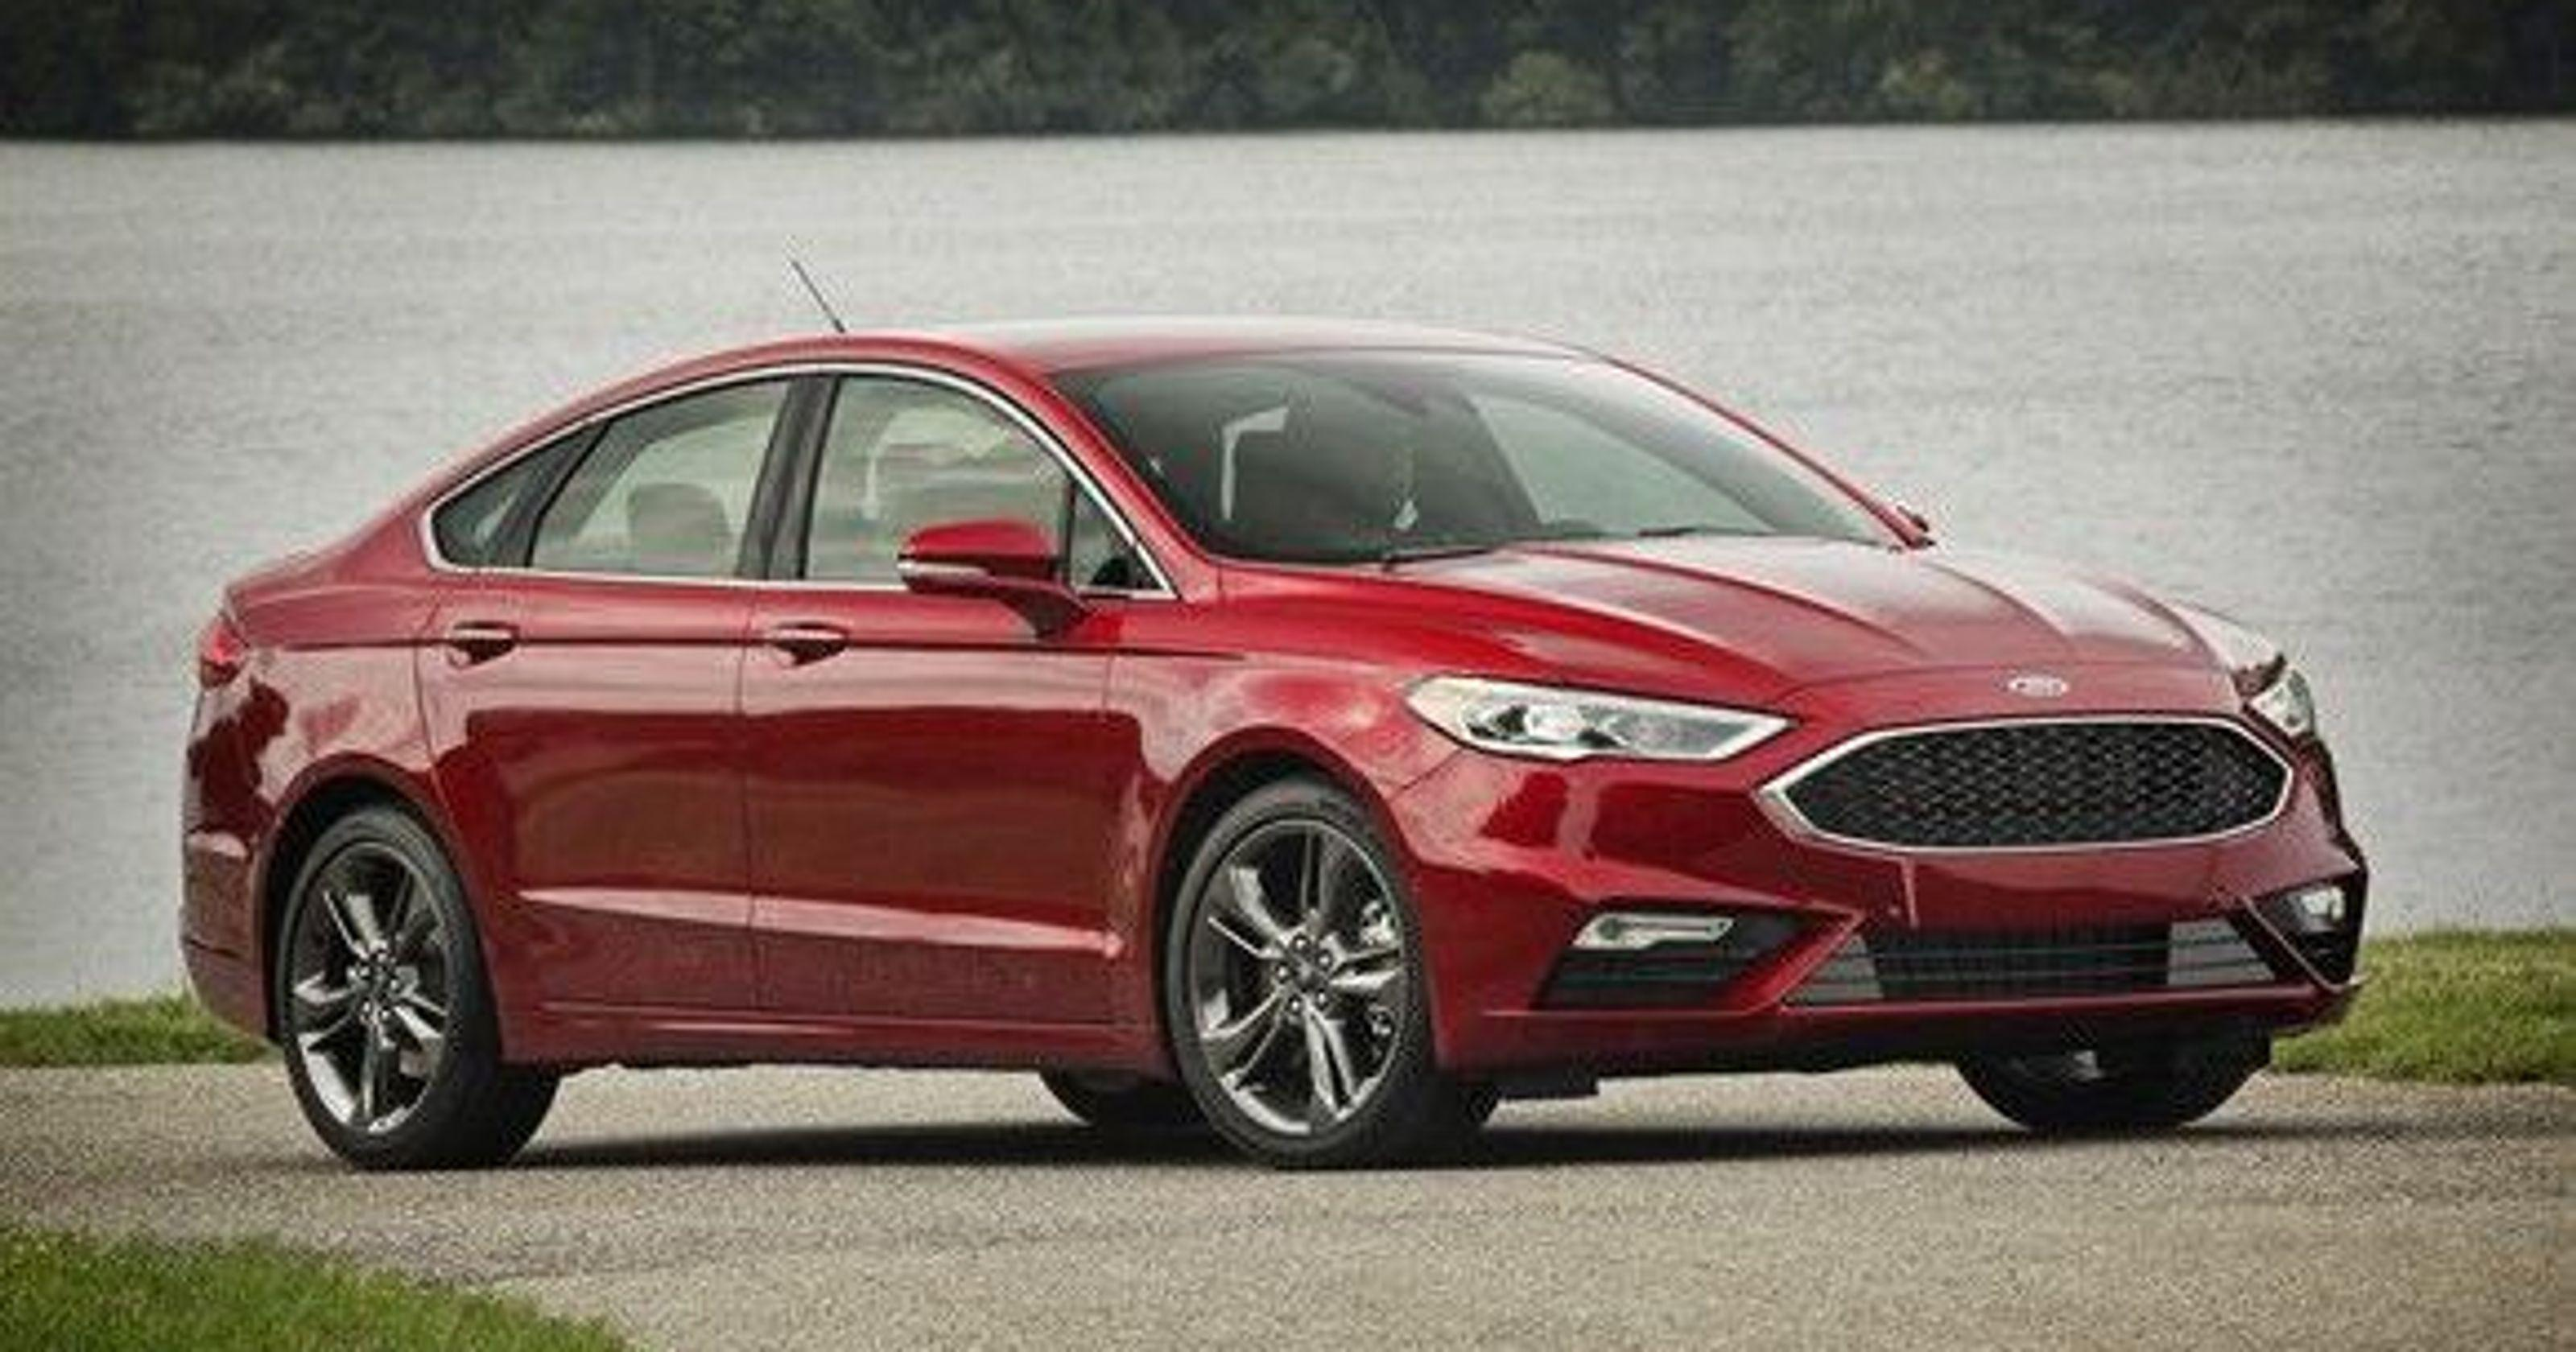car: (141, 318, 2484, 1178)
